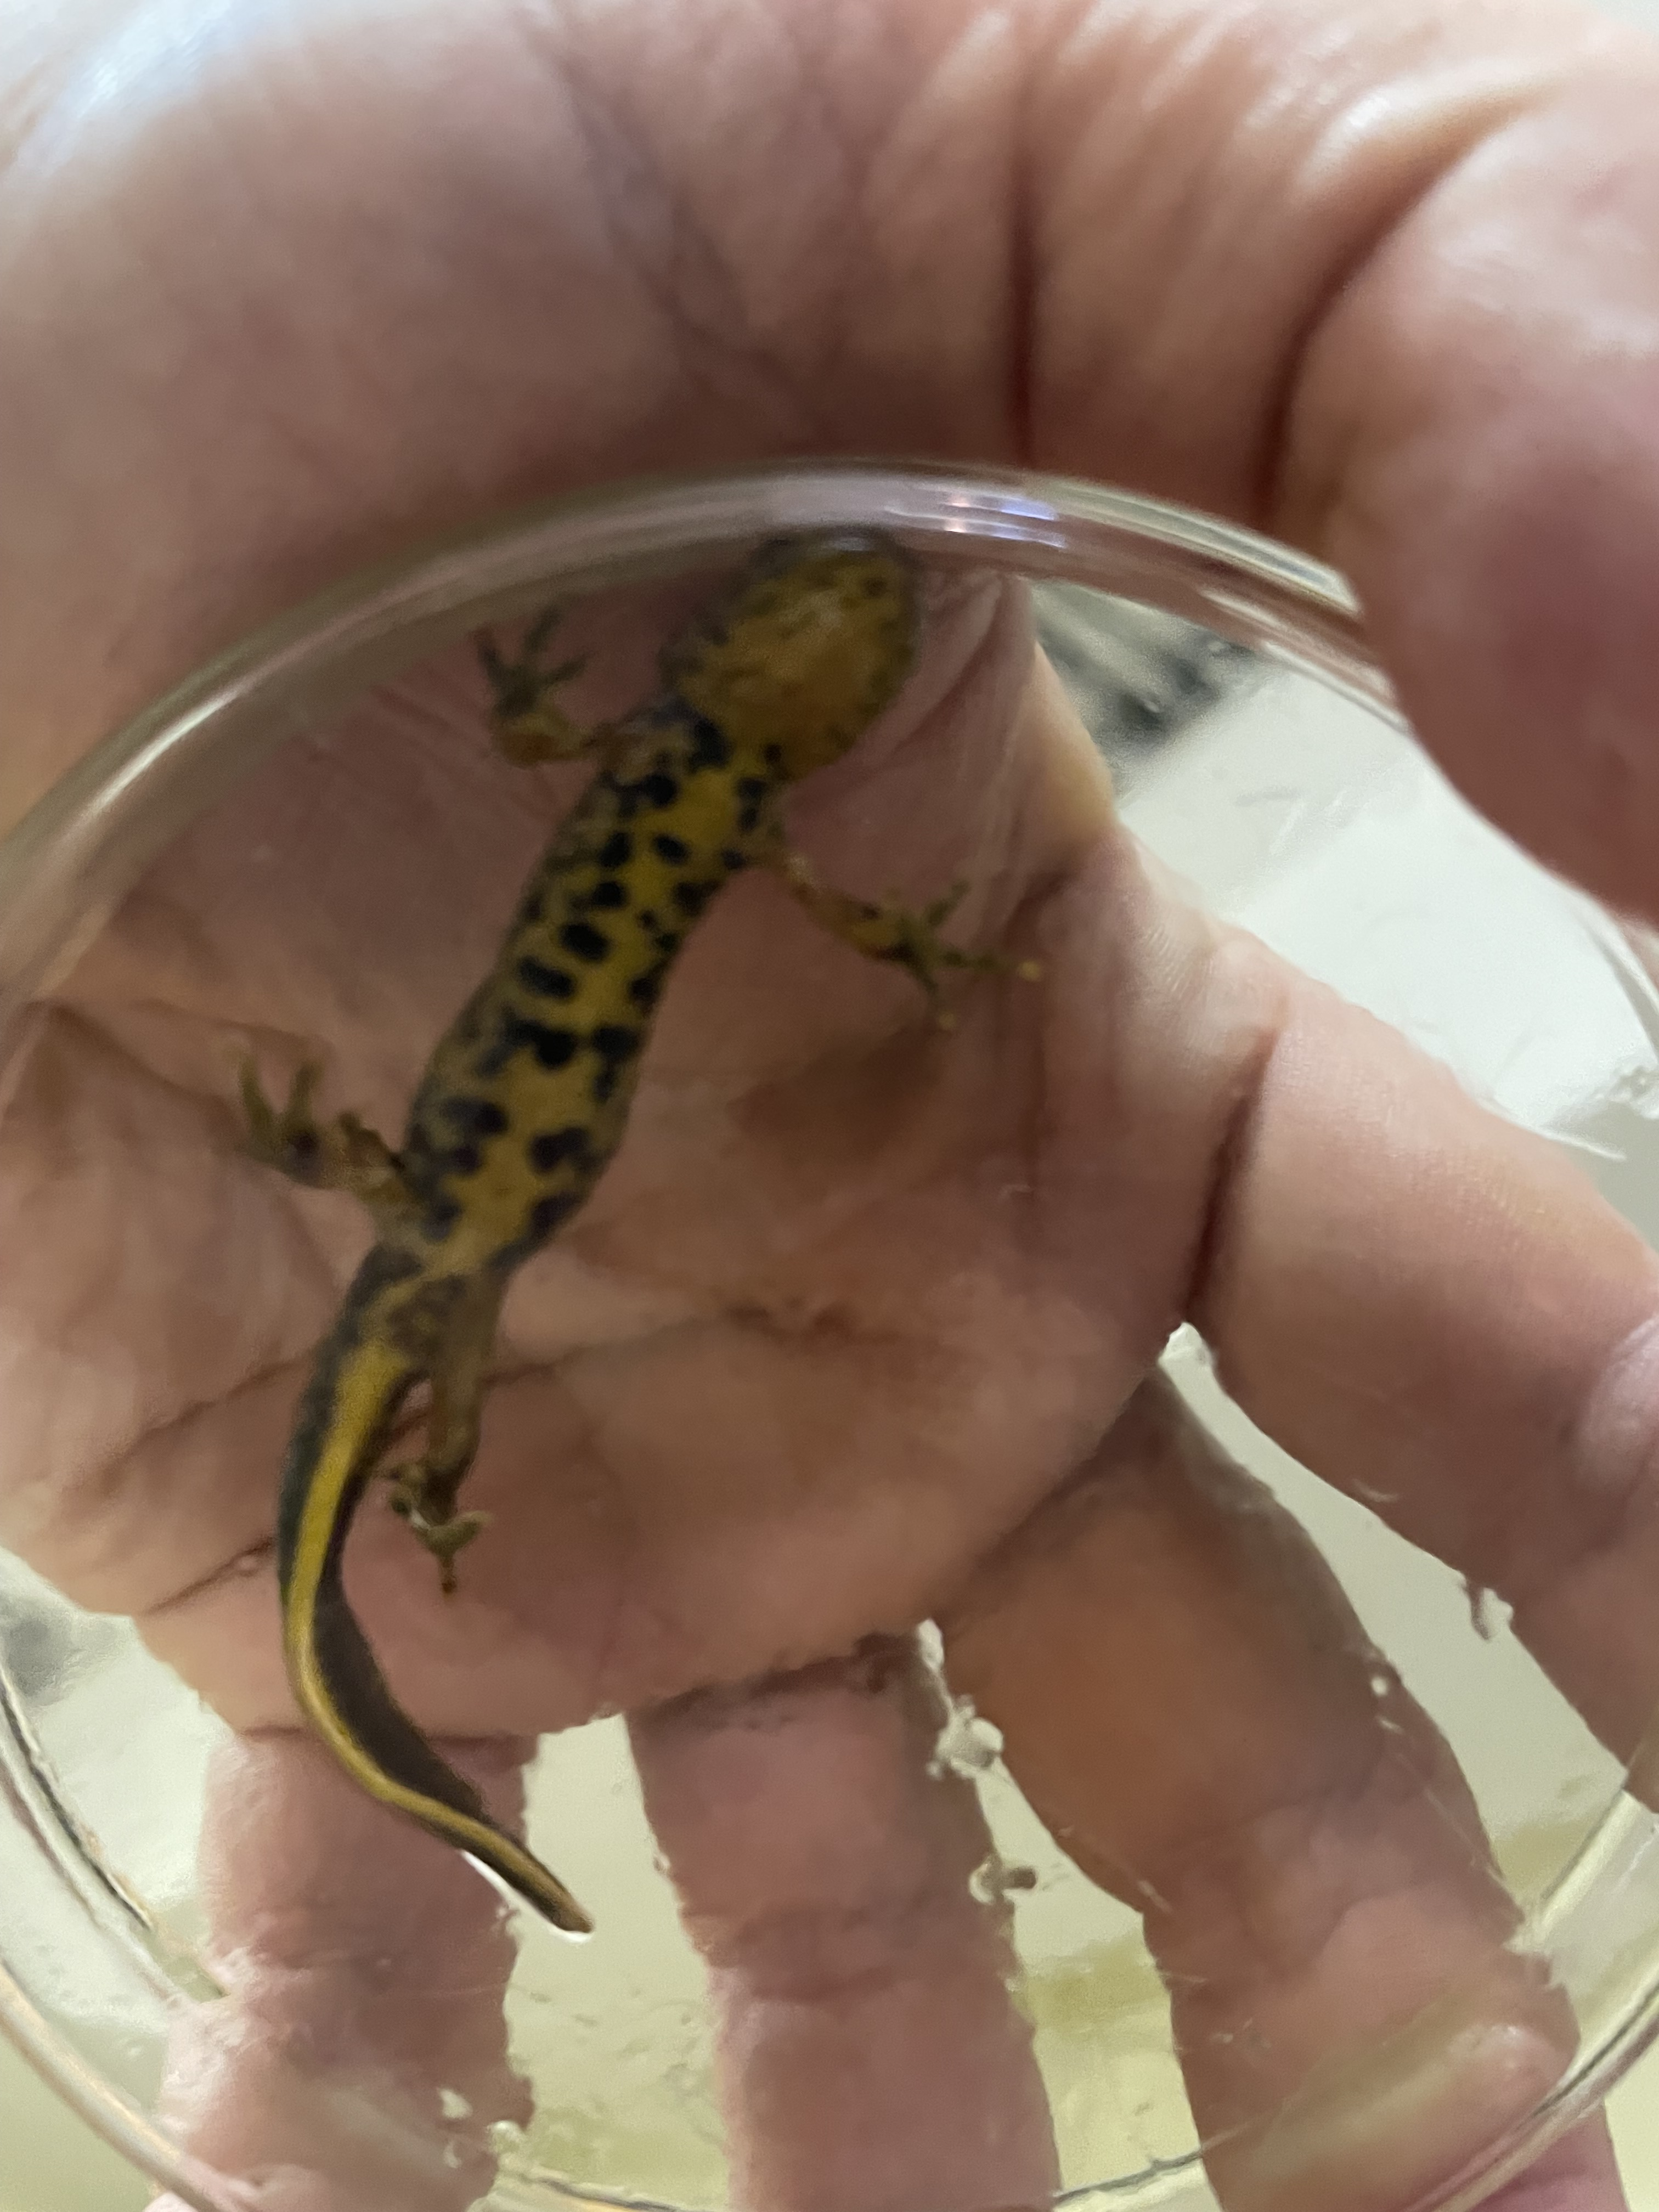Karelin_newt: (401, 768, 755, 1270)
